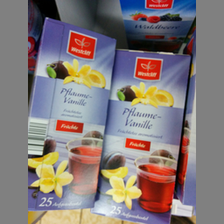tea: (28, 17, 117, 210), (94, 50, 192, 224)
